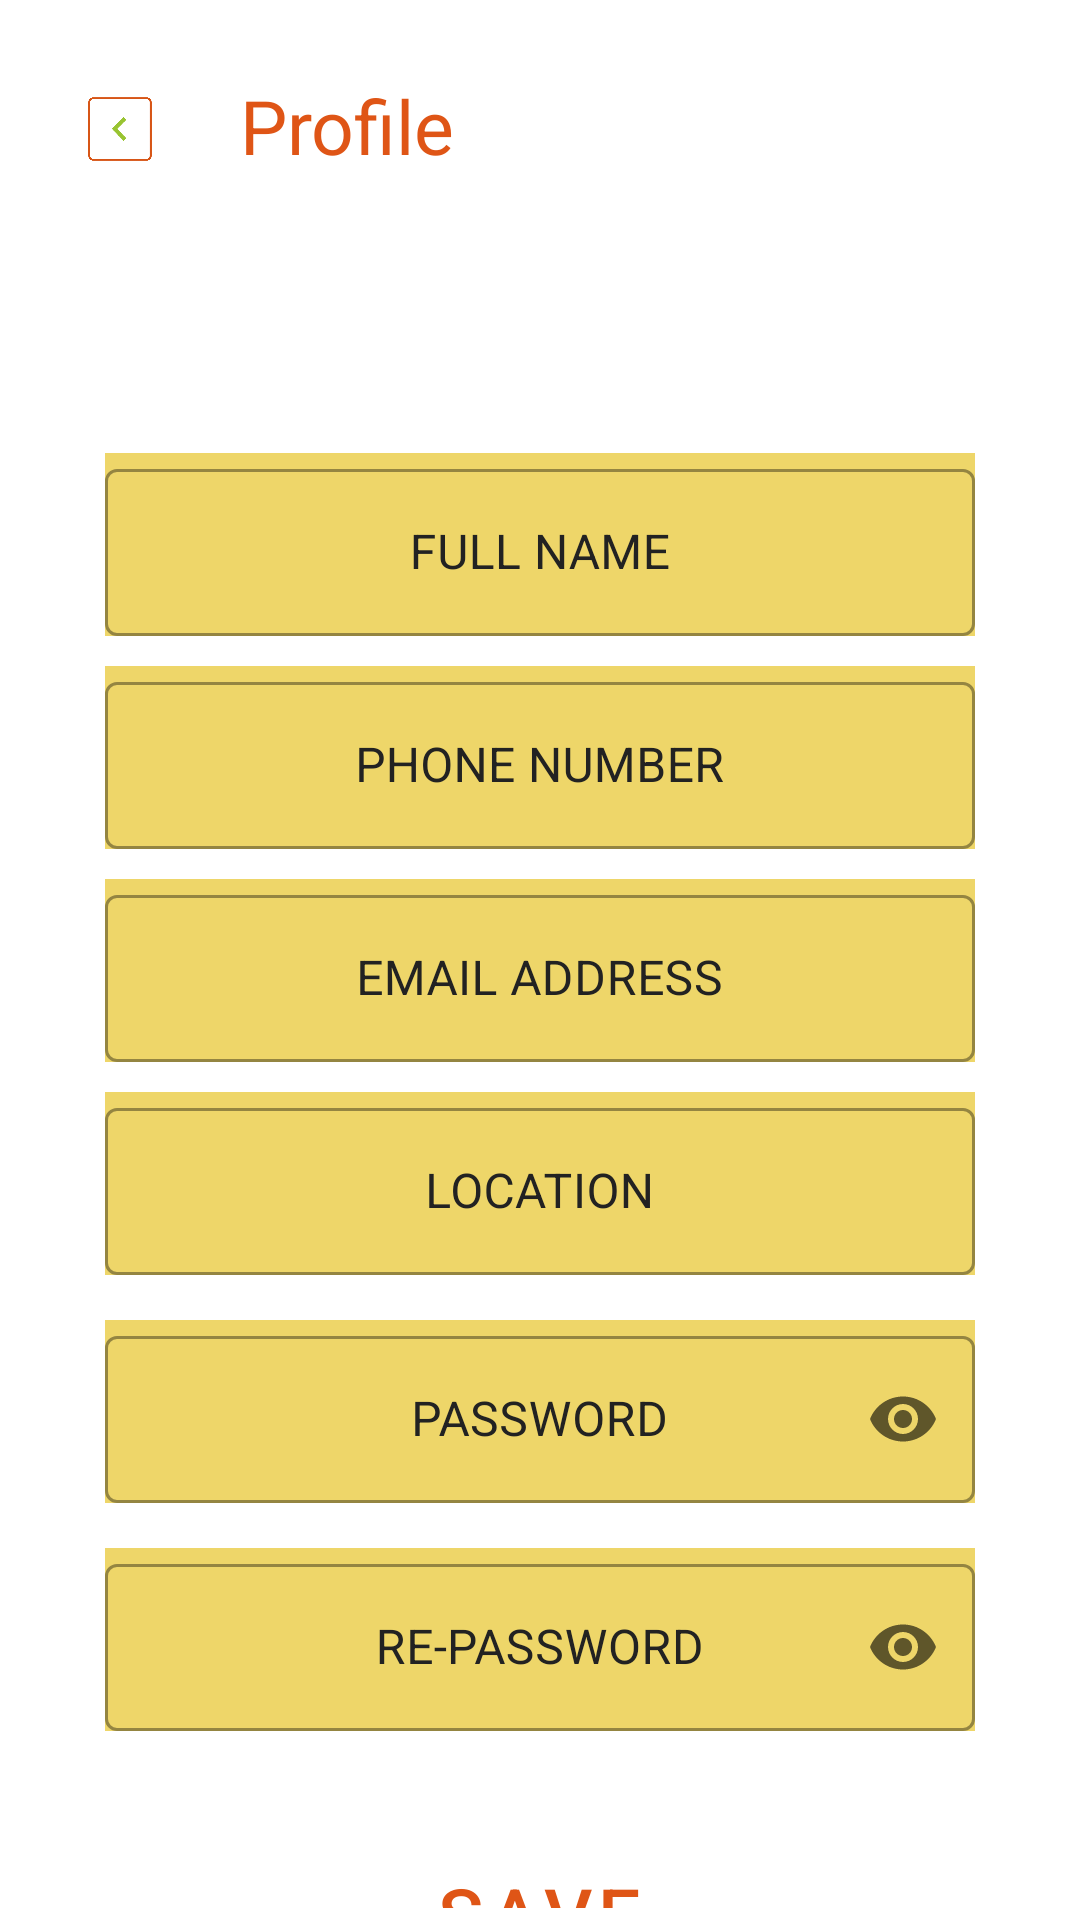

Icon bounding boxes for this 1080×1920 phone screenshot, format (x1, y1, x2, y2):
back: (88, 97, 152, 161)
